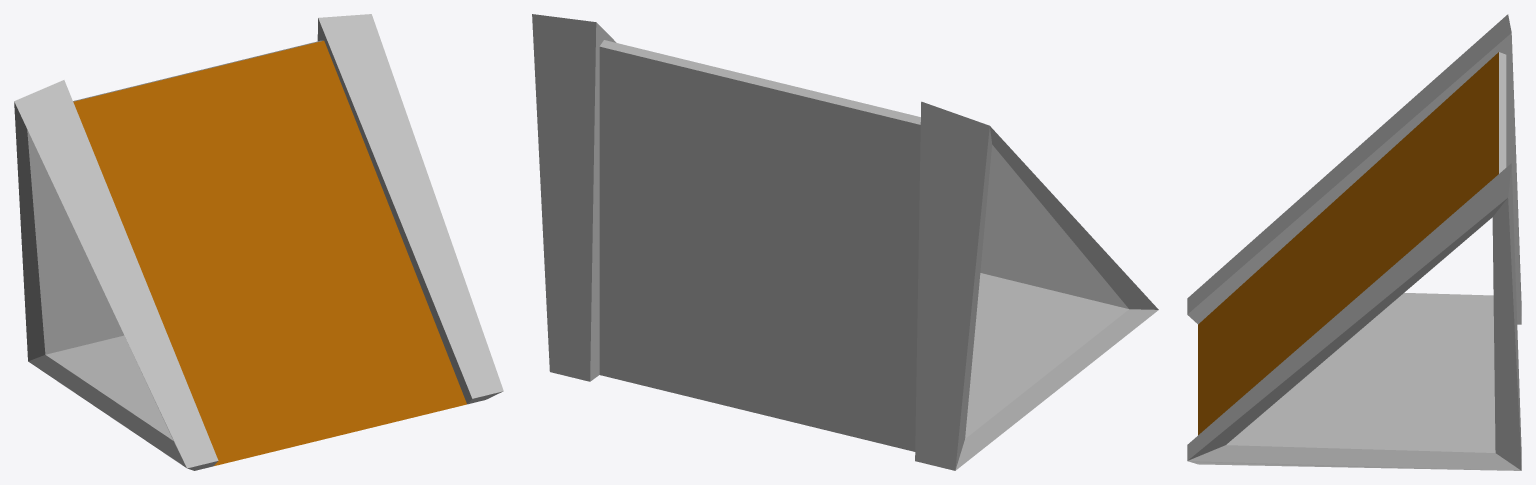
File: Ramp.fbx
3 views of the same model, side by side, from view 1: azimuth 30°, elevation 25°; view 2: azimuth 150°, elevation 25°; view 3: azimuth 270°, elevation 25° (orthographic). The views are drawn at different scales.
Parts seen in each view (by area): view 1: RAMP; view 2: RAMP; view 3: RAMP.
Boxes of the visible parts, x1,y1,x2,y2 form: RAMP: (14,14,503,470); RAMP: (532,14,1158,470); RAMP: (1187,14,1521,470).
Size of the model in its own units: 21.13 by 15.67 by 16.28.
